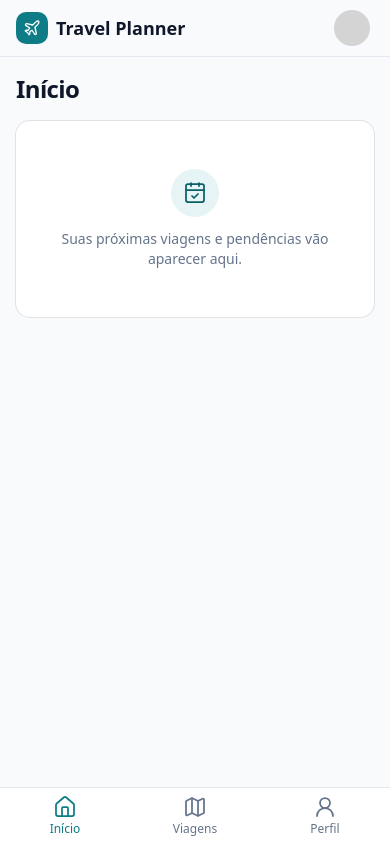
Test: AppLayout › navega entre as rotas e marca o item ativo
This screenshot has width=390, height=844.
Expected: the heading "Início" is shown, [16,73,79,105]
What coordinates should you click on to do the following:
click the link "Viagens"
I would click on:
 (195, 816)
Its box is [173,795,217,837].
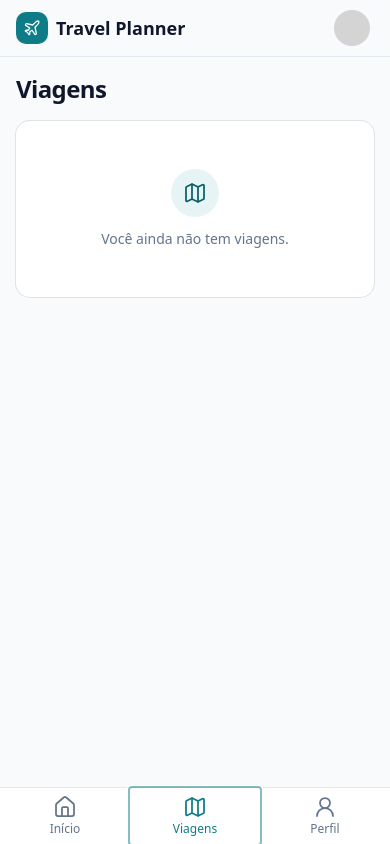
Now the heading "Viagens" is shown, box [16,73,106,105]
What coordinates should you click on to do the following:
click the link "Perfil"
I would click on:
 (325, 816)
Its box is [310,795,340,837].
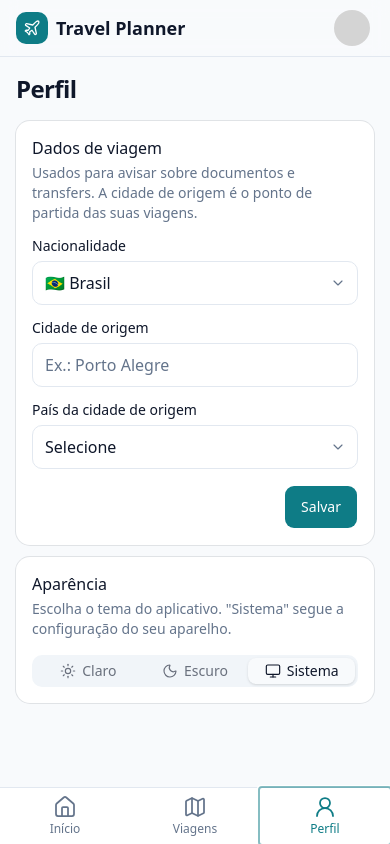
Now the heading "Perfil" is shown, box [16,73,76,105]
